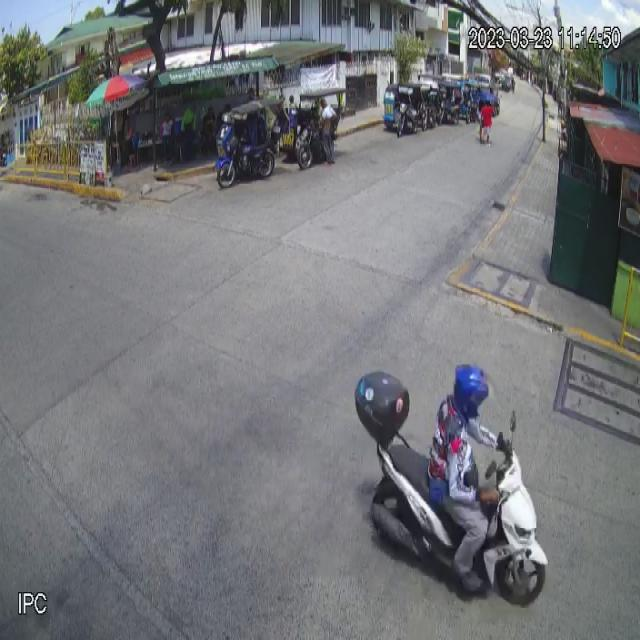Motorcycle: (352, 365, 549, 606)
